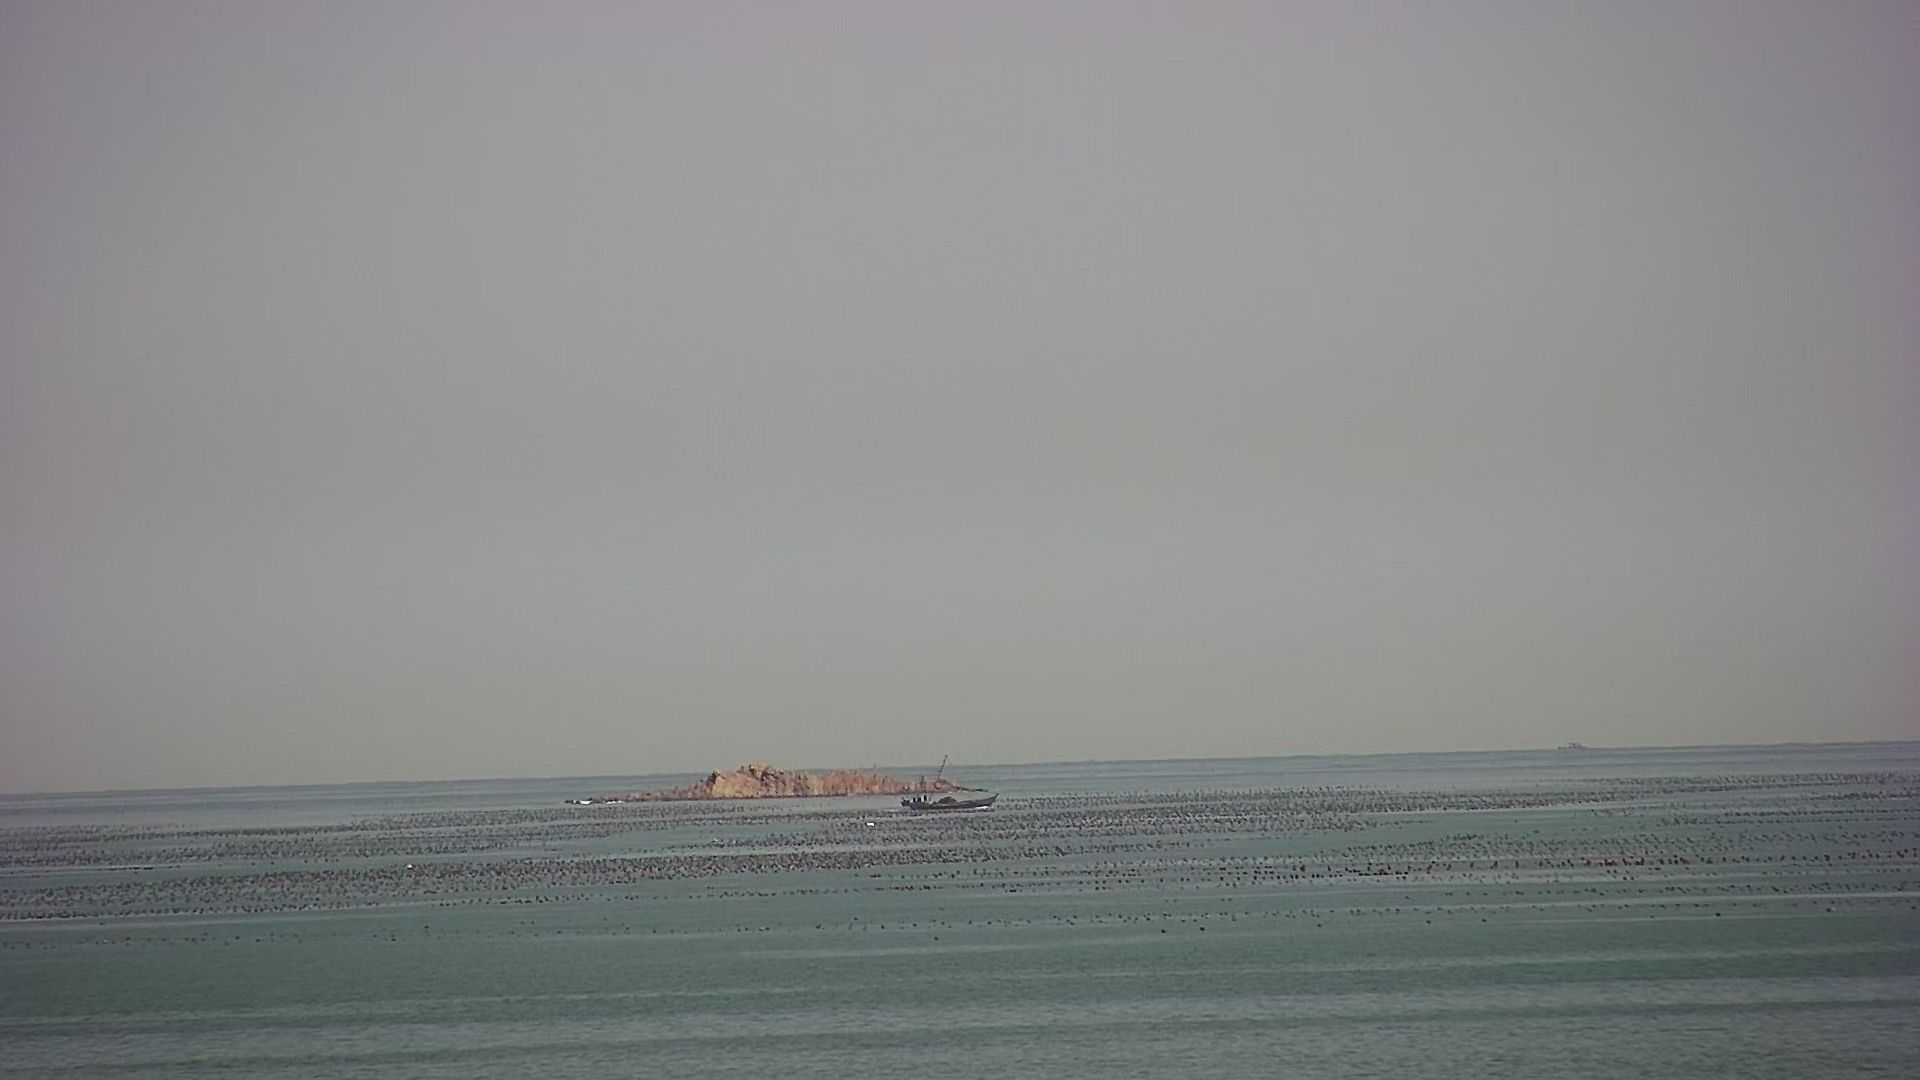boat: (897, 750, 1001, 812)
rock: (553, 764, 982, 804)
